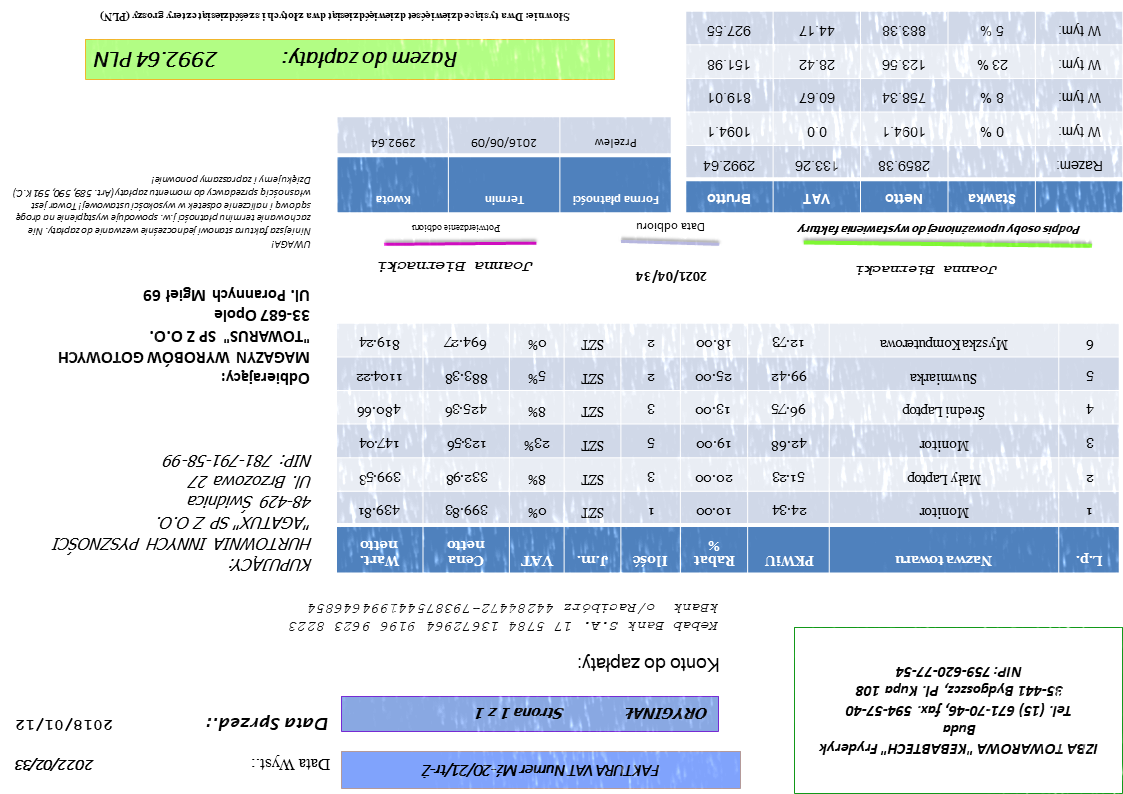Table: (336, 323, 1121, 574), (684, 11, 1122, 214), (337, 116, 672, 213)
TextBox: (50, 451, 315, 576), (816, 662, 1100, 758), (56, 284, 312, 388), (10, 173, 313, 253), (285, 599, 720, 635), (92, 45, 460, 71), (98, 8, 573, 25), (419, 760, 662, 780), (798, 222, 1083, 239), (471, 705, 710, 724), (575, 651, 722, 676), (206, 712, 330, 735), (377, 258, 536, 275), (855, 262, 999, 278), (13, 716, 116, 735), (11, 756, 98, 774), (251, 755, 333, 774), (634, 266, 710, 286), (410, 222, 502, 235), (636, 220, 708, 234)
